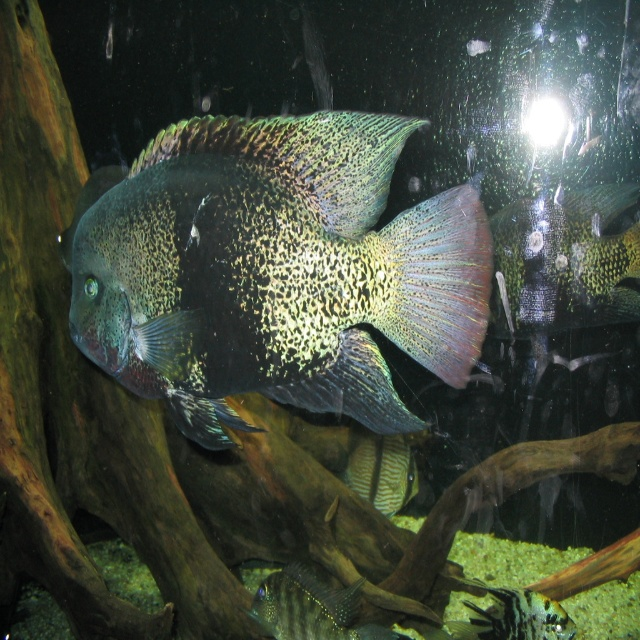Fish: (44, 85, 509, 473), (253, 555, 374, 639), (457, 582, 582, 639)
